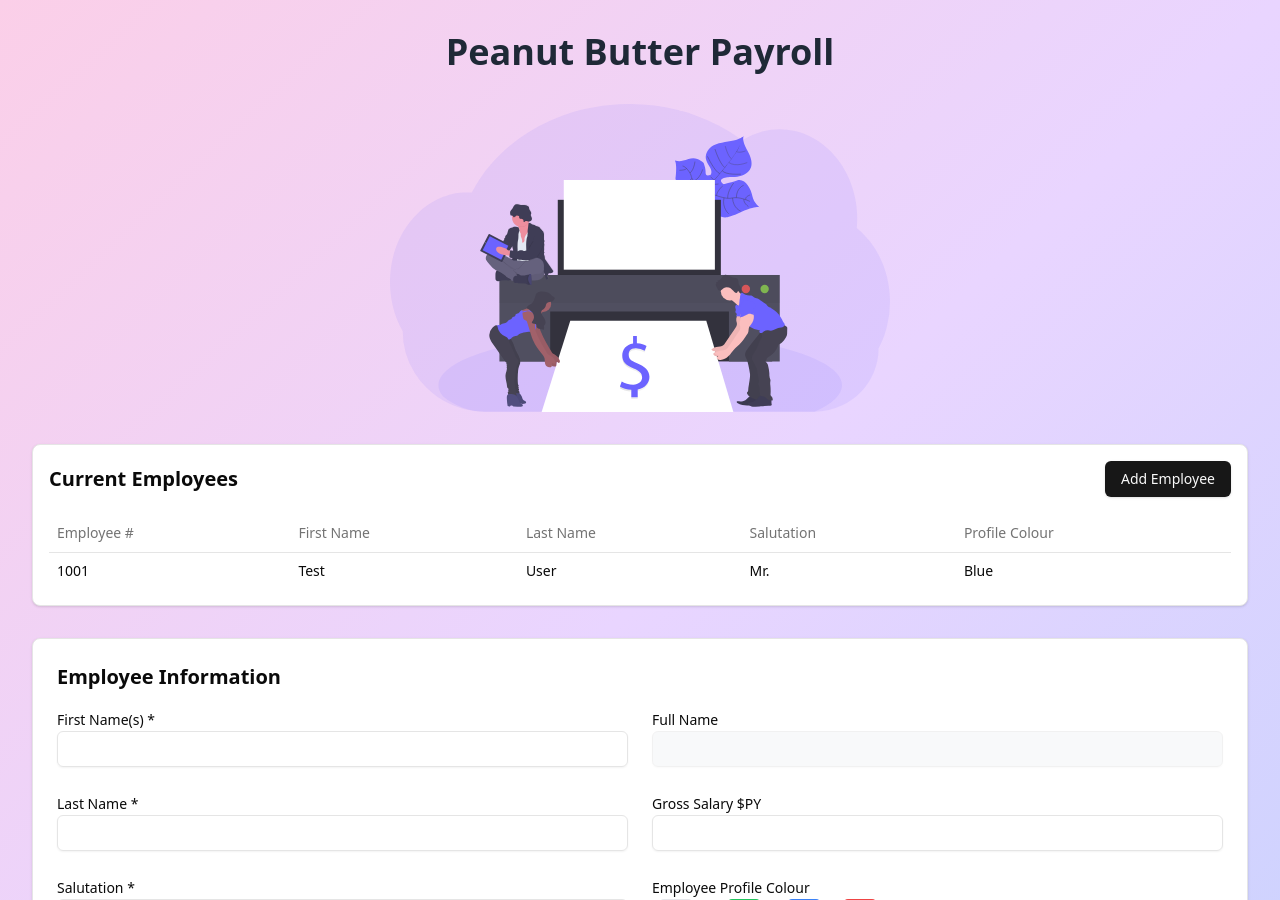
it: EmployeeManagement Page › updates form fields when a table row is clicked
expect the text "Test" is shown: met, box [290,553,518,589]
Click on the table row to select the employee.
Click the text "1001" at (73, 571), box [49,553,290,589]
(page scrolled)
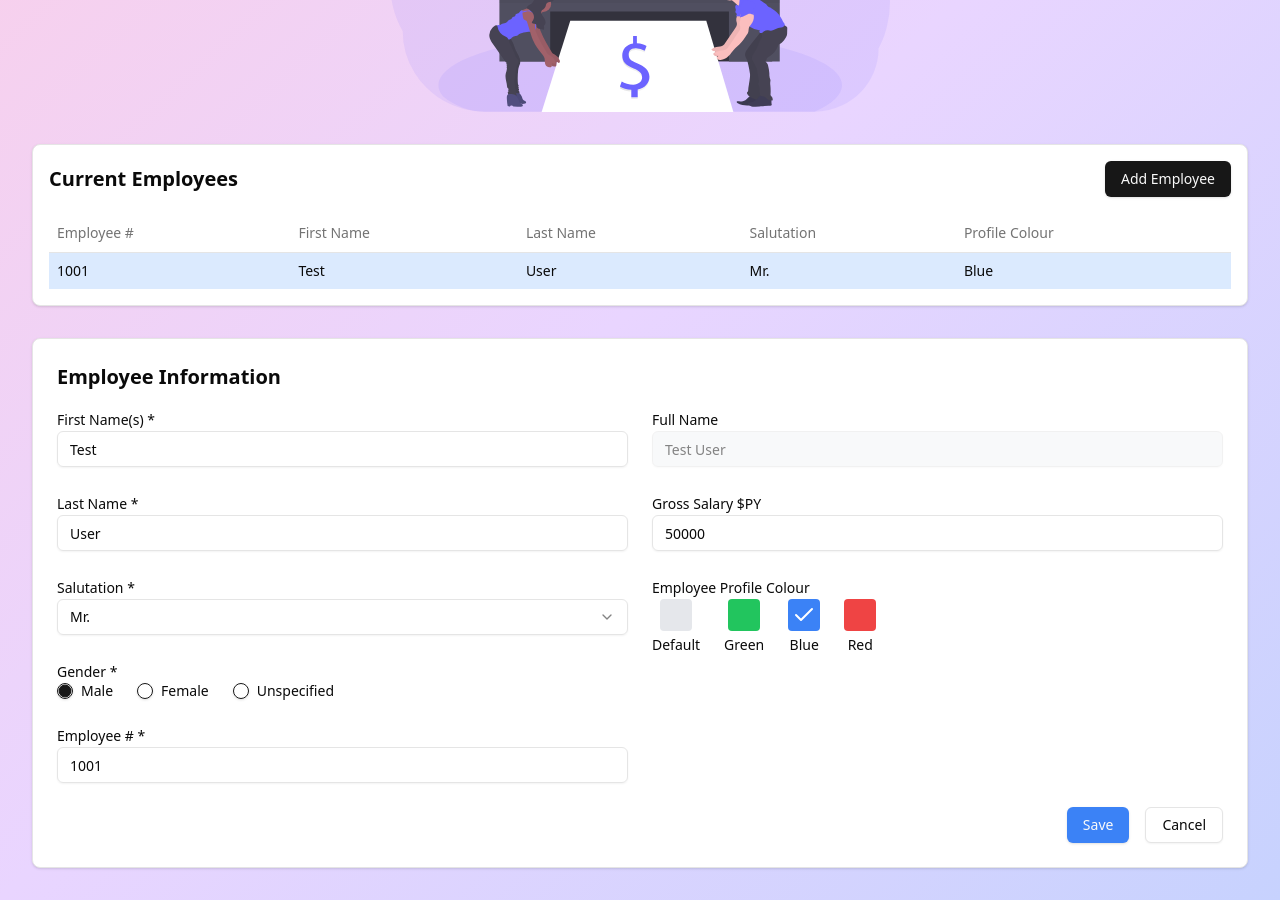
expect the 3rd radio button showing "Blue" is shown: met, box [788,599,820,655]
expect the field showing "Test" is shown: met, box [57,431,628,467]
expect the field showing "User" is shown: met, box [57,515,628,551]
